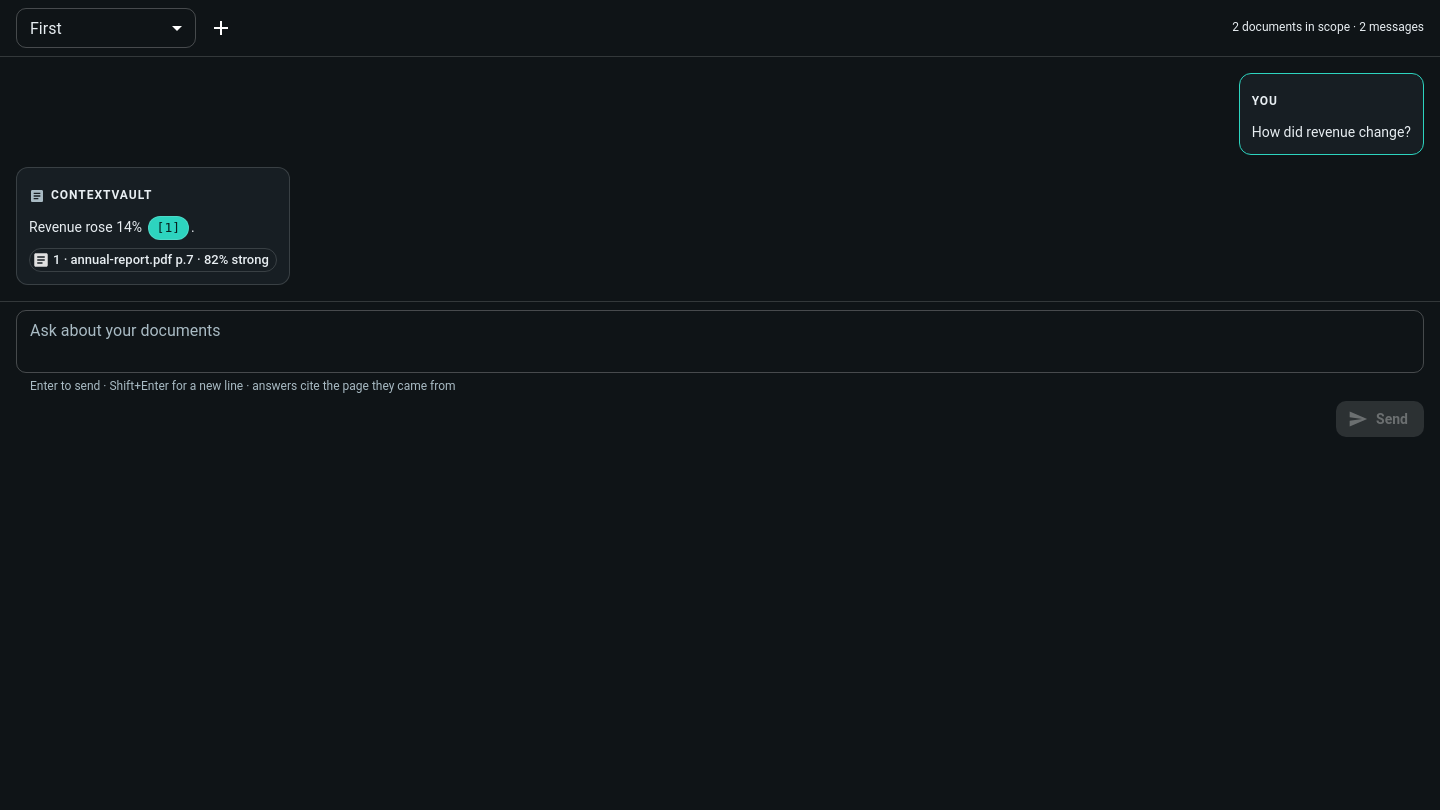
ChatContainer › opens the source behind a citation in the answer
Click the button named "source 1" at {"x": 168, "y": 228}, box 148,216 -> 189,240
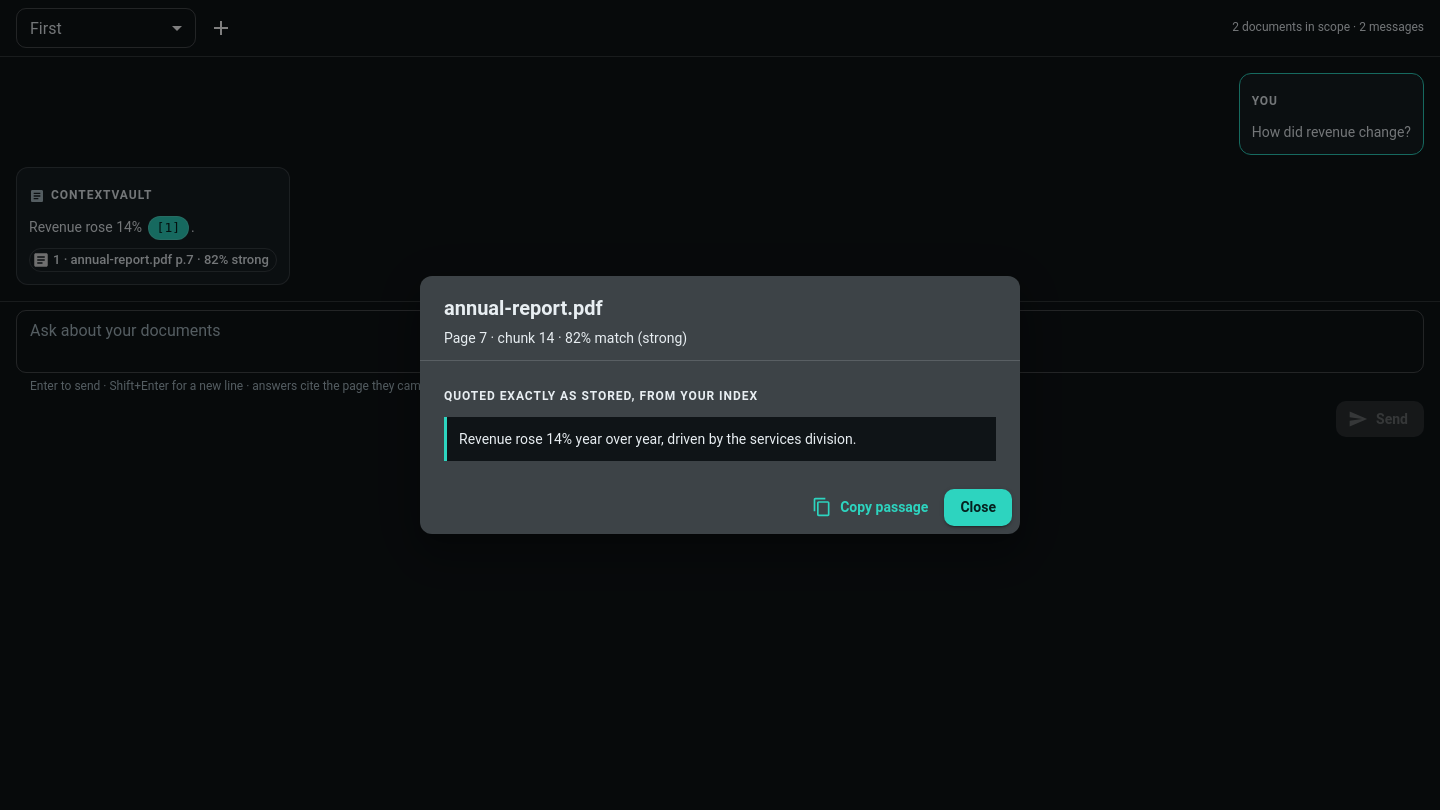
Now the text "Revenue rose 14%" is shown, box 459,431 -> 856,447
Click the button "Close" at {"x": 978, "y": 507}, box 944,489 -> 1012,526
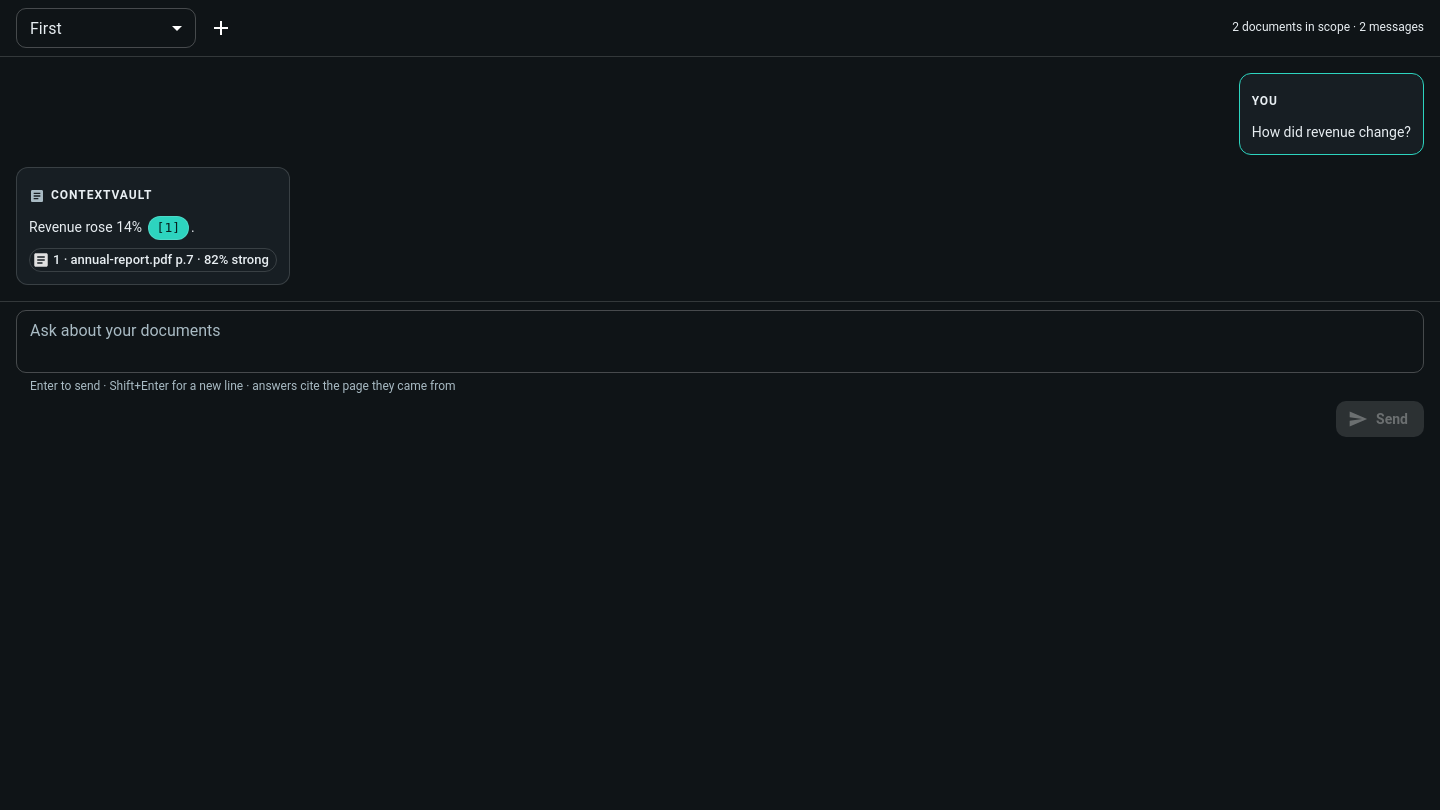
Now the dialog is gone
